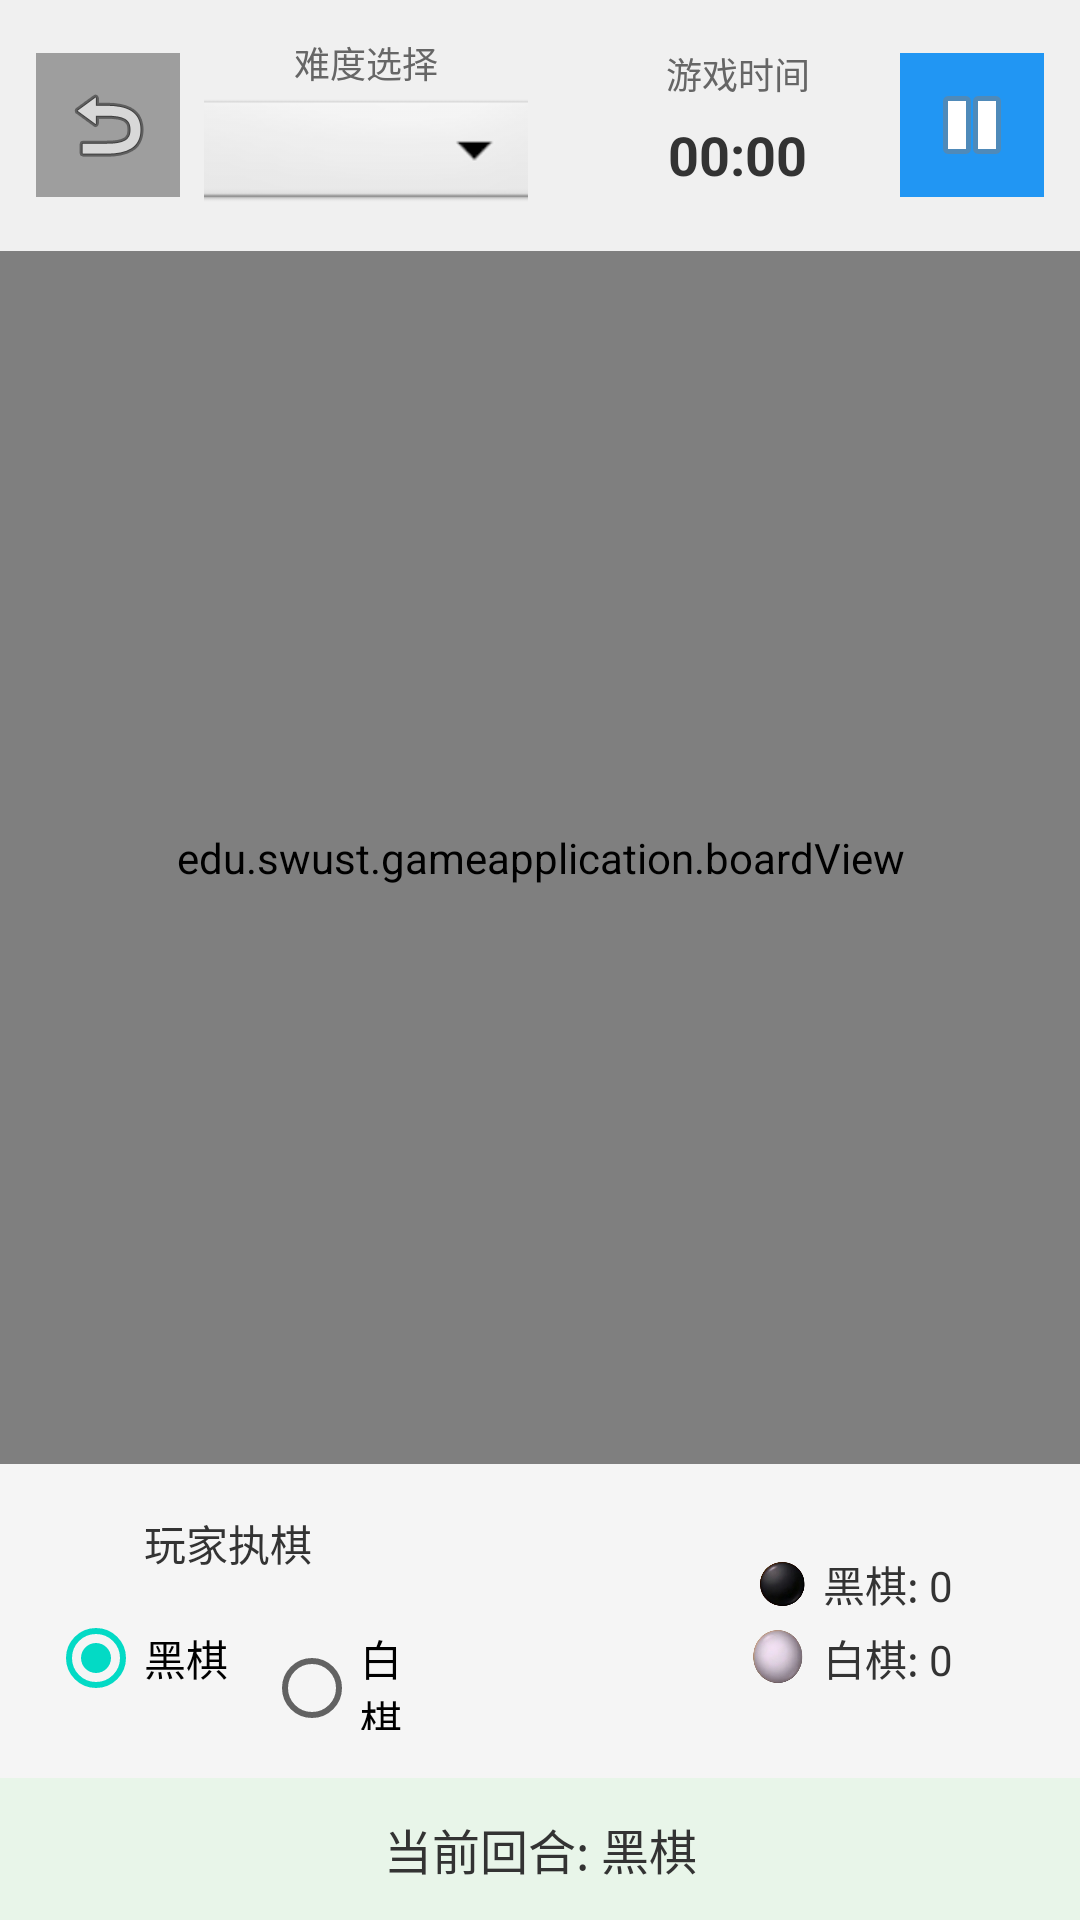

Screen size 1080×1920. Icon name, then its center in pixels as (x=x, y=y):
stone: (x=782, y=1584), (x=777, y=1656)
暂停: (x=972, y=125)
返回: (x=108, y=125)
